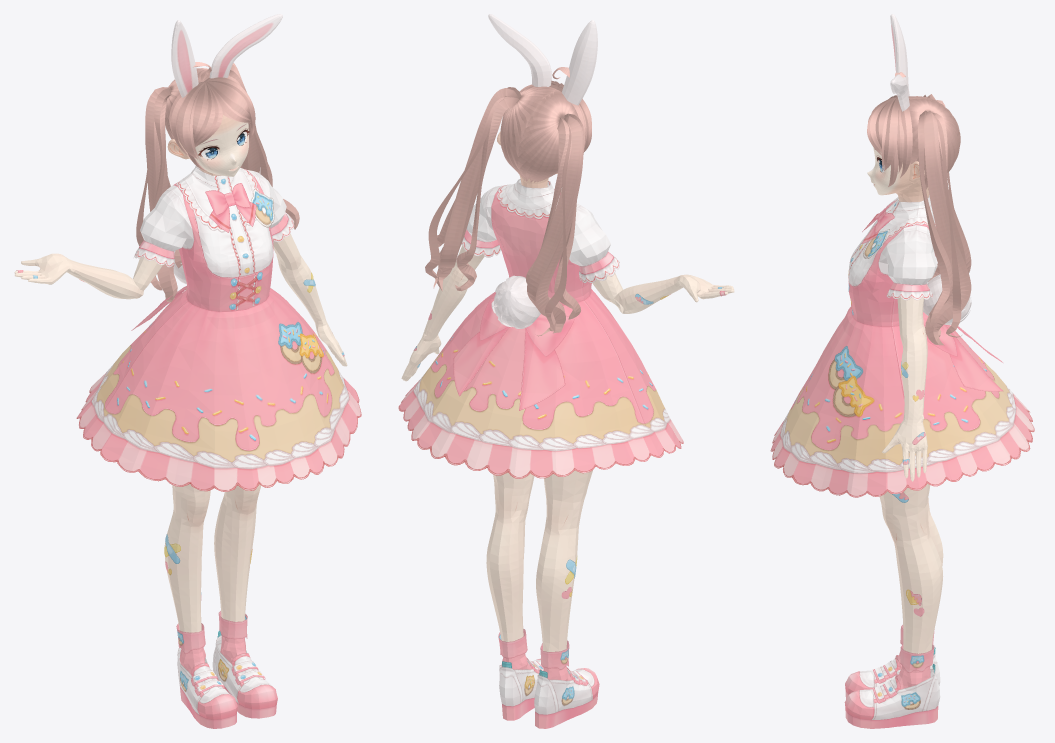
File: rabbit.glb
3 renders of one model, left to right at view 1: azimuth 30°, elevation 25°; view 2: azimuth 150°, elevation 25°; view 3: azimuth 270°, elevation 25°, orthographic. The views are drawn at different scales.
Parts seen in each view (by area): view 1: Body, Hair, Face; view 2: Body, Hair; view 3: Body, Hair, Face.
Part boxes in pixels (left/top/right/bottom): Body: left=14, top=14, right=361, bottom=728; Hair: left=136, top=62, right=299, bottom=302; Face: left=167, top=115, right=249, bottom=176; Body: left=398, top=14, right=734, bottom=728; Hair: left=425, top=67, right=591, bottom=336; Body: left=770, top=14, right=1034, bottom=728; Hair: left=867, top=72, right=971, bottom=345; Face: left=867, top=147, right=924, bottom=195.
Bounding box in the file's own units: 0.8062 × 1.62 × 0.6032.
Materials: 21 (21 with a texture image).
